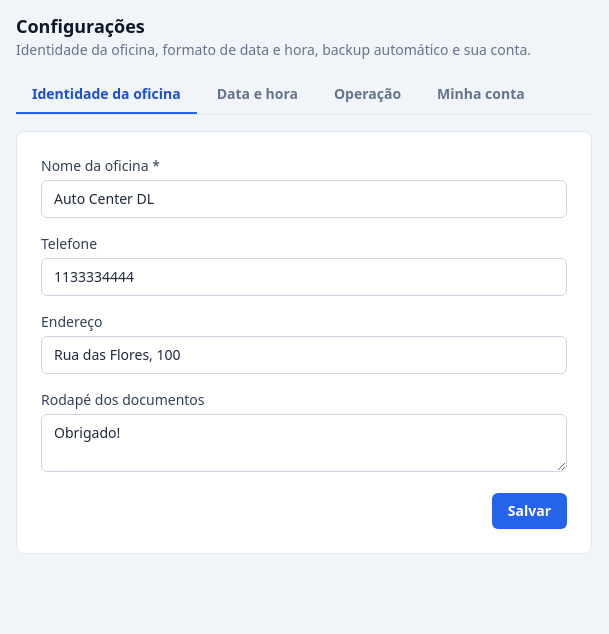
Test: SettingsPage tabs (2026-09-18) › creates a manual backup on demand
Click the tab "Operação" at (368, 95), box [318,76,417,114]
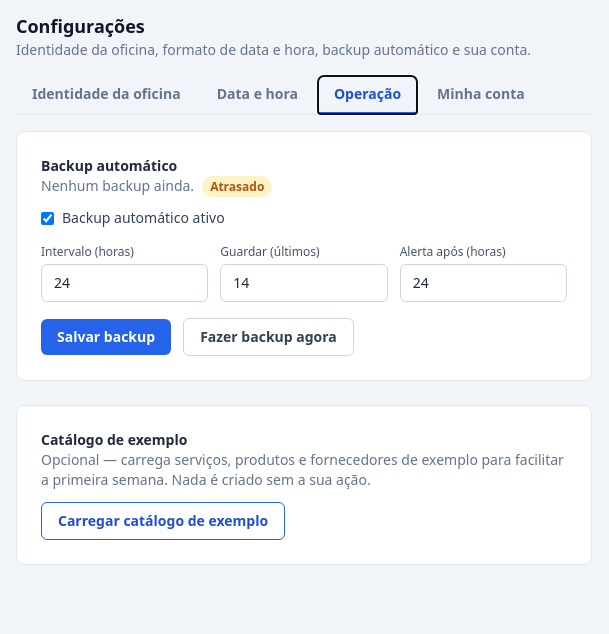
Click the button "Fazer backup agora" at (268, 337), box [183,318,354,356]
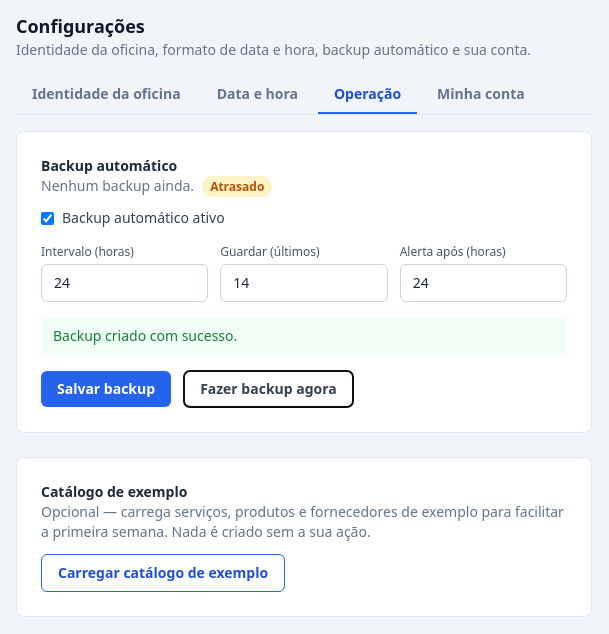
Check: the text "Backup criado com sucesso." is shown, box [41,318,567,354]
